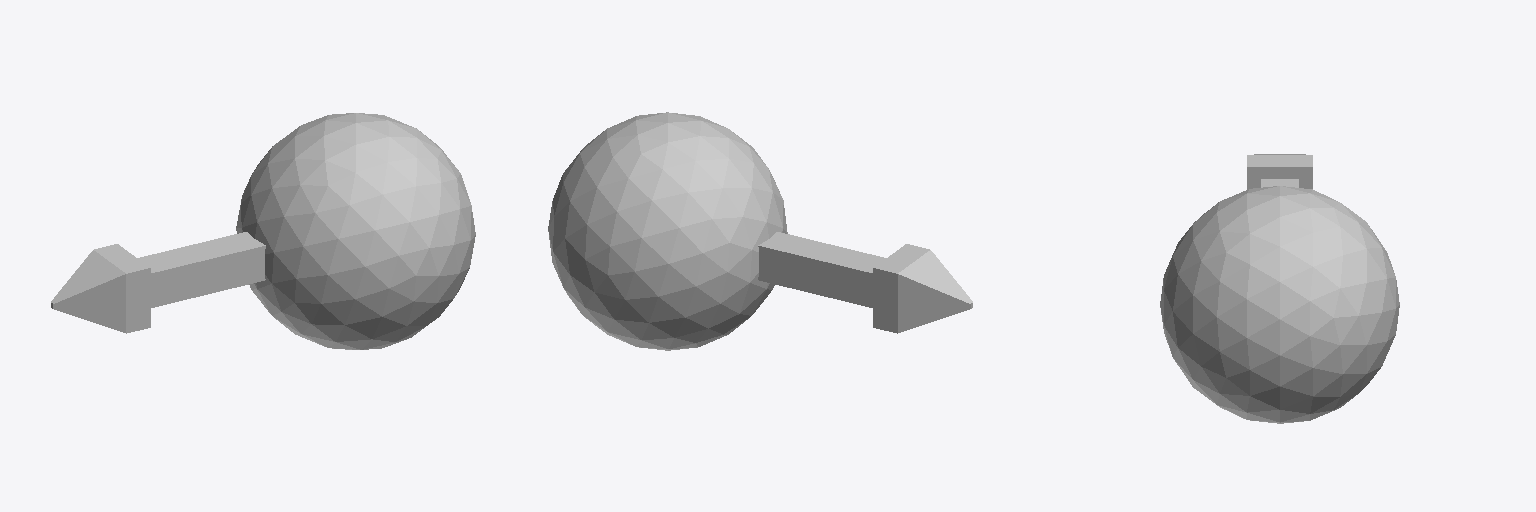
File: DirLightBall.obj
3 views of the same model, side by side, from view 1: azimuth 30°, elevation 25°; view 2: azimuth 150°, elevation 25°; view 3: azimuth 270°, elevation 25° (orthographic).
Visible parts, largest first — view 1: Icosphere, Cube; view 2: Icosphere, Cube; view 3: Icosphere, Cube.
Boxes of the visible parts, x1,y1,x2,y2 form: Icosphere: [236, 113, 475, 349]; Cube: [51, 232, 265, 333]; Icosphere: [548, 112, 787, 350]; Cube: [758, 232, 972, 333]; Icosphere: [1160, 186, 1399, 423]; Cube: [1247, 154, 1312, 189].
Size of the model in its own units: 0.9815 by 0.5 by 0.5.